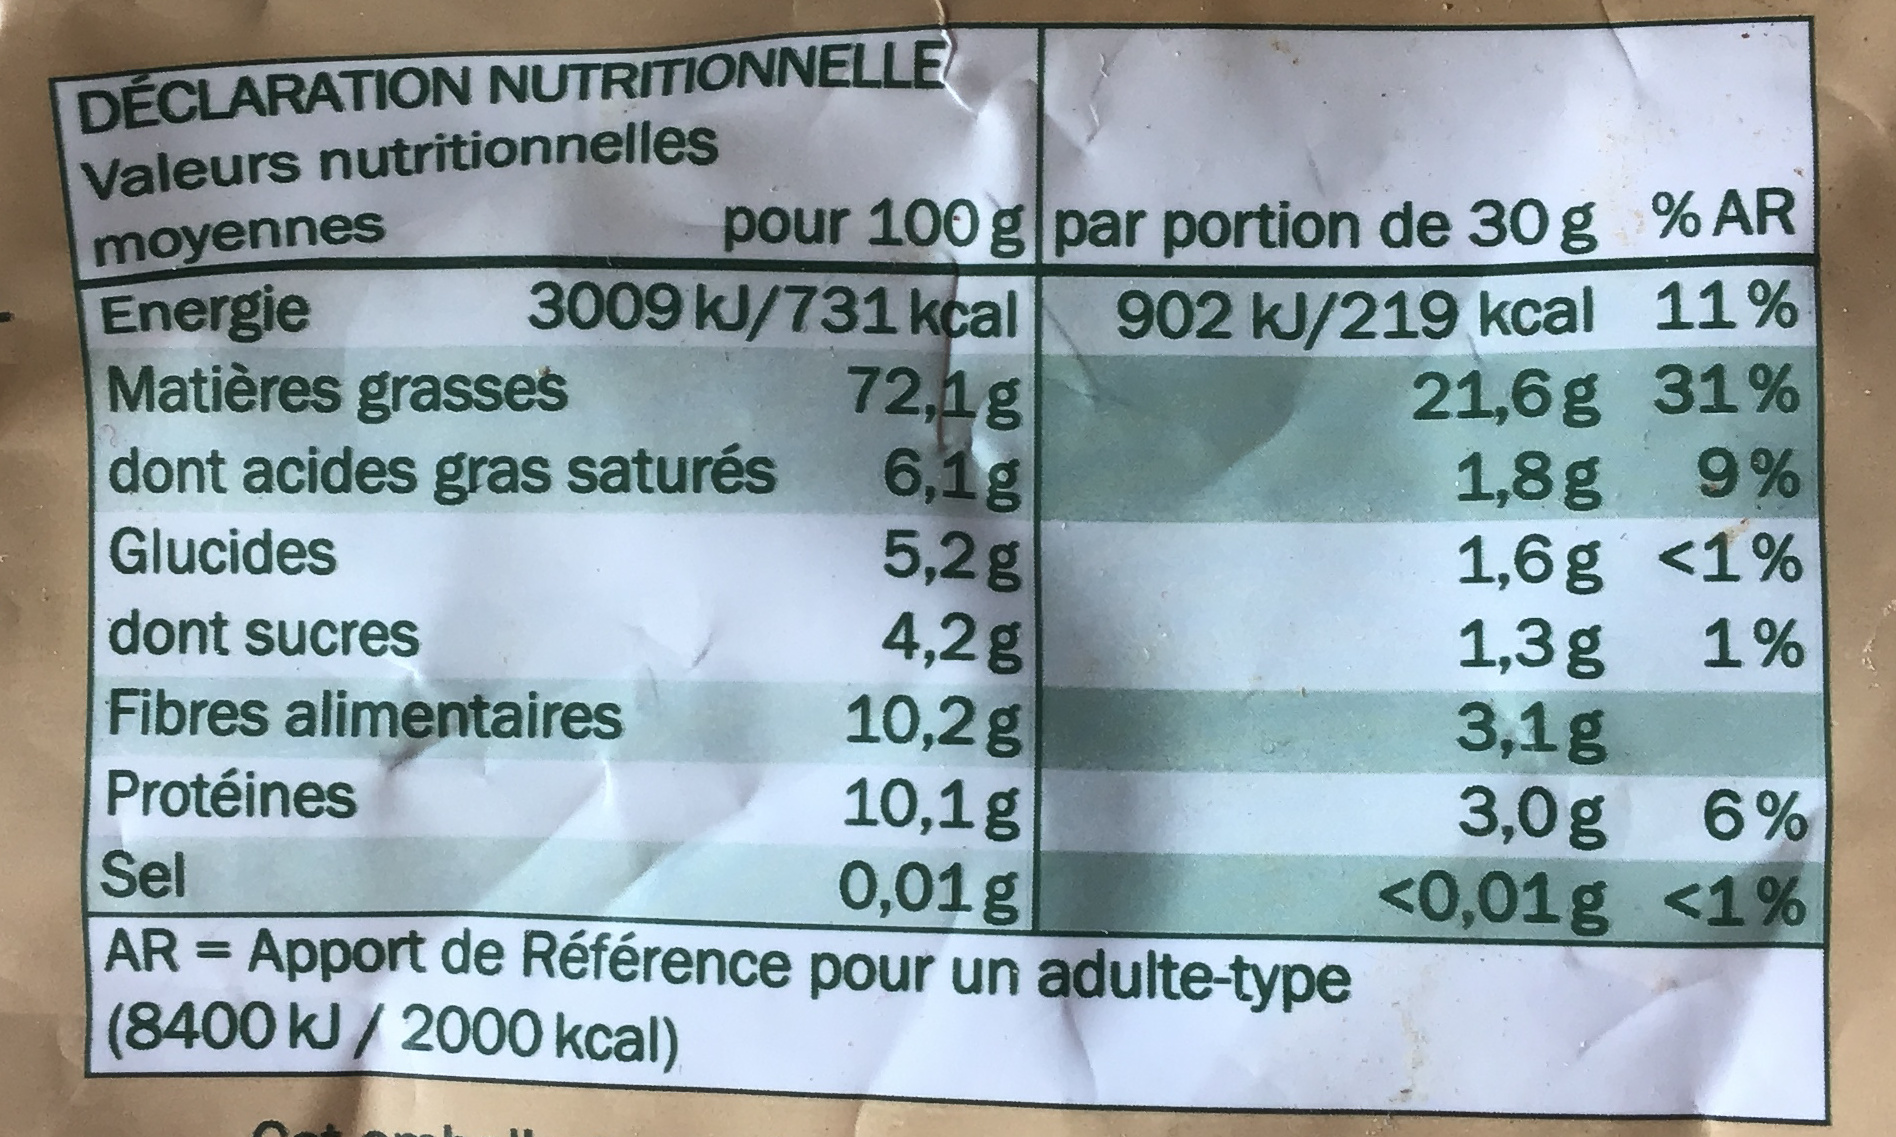column: (76, 31, 1030, 930), (1052, 196, 1610, 938), (1646, 185, 1816, 933)
table: (61, 15, 1834, 941)
